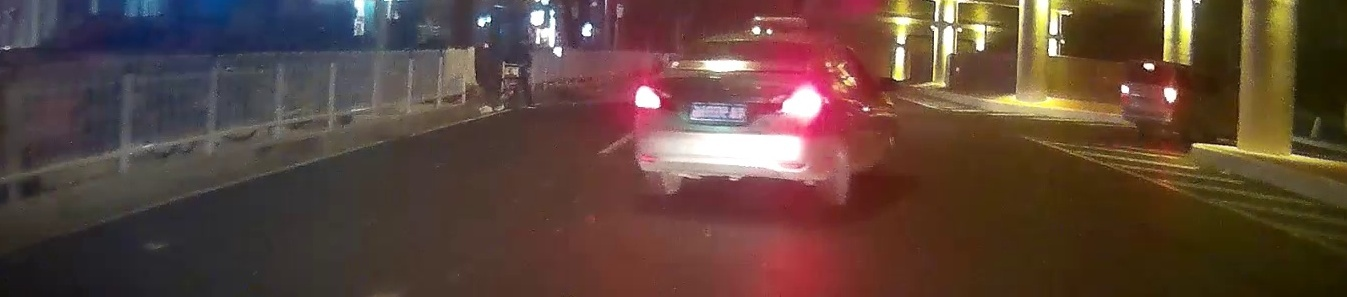L_light: (634, 85, 675, 111), (1119, 84, 1130, 94)
R_light: (766, 85, 828, 123), (1164, 88, 1178, 104)
T_light: (1143, 63, 1155, 71)
day-no: (736, 40, 760, 46)
night-brake: (1120, 58, 1179, 142)
night-right: (633, 32, 833, 205)
